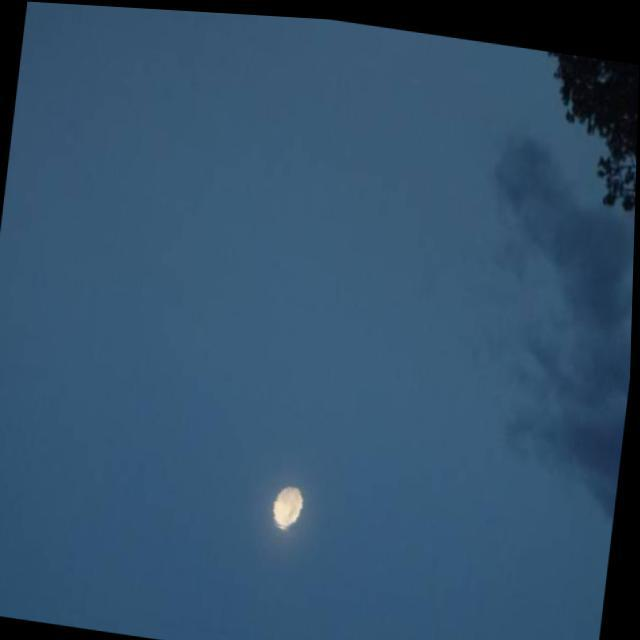moon: (269, 479, 313, 528)
